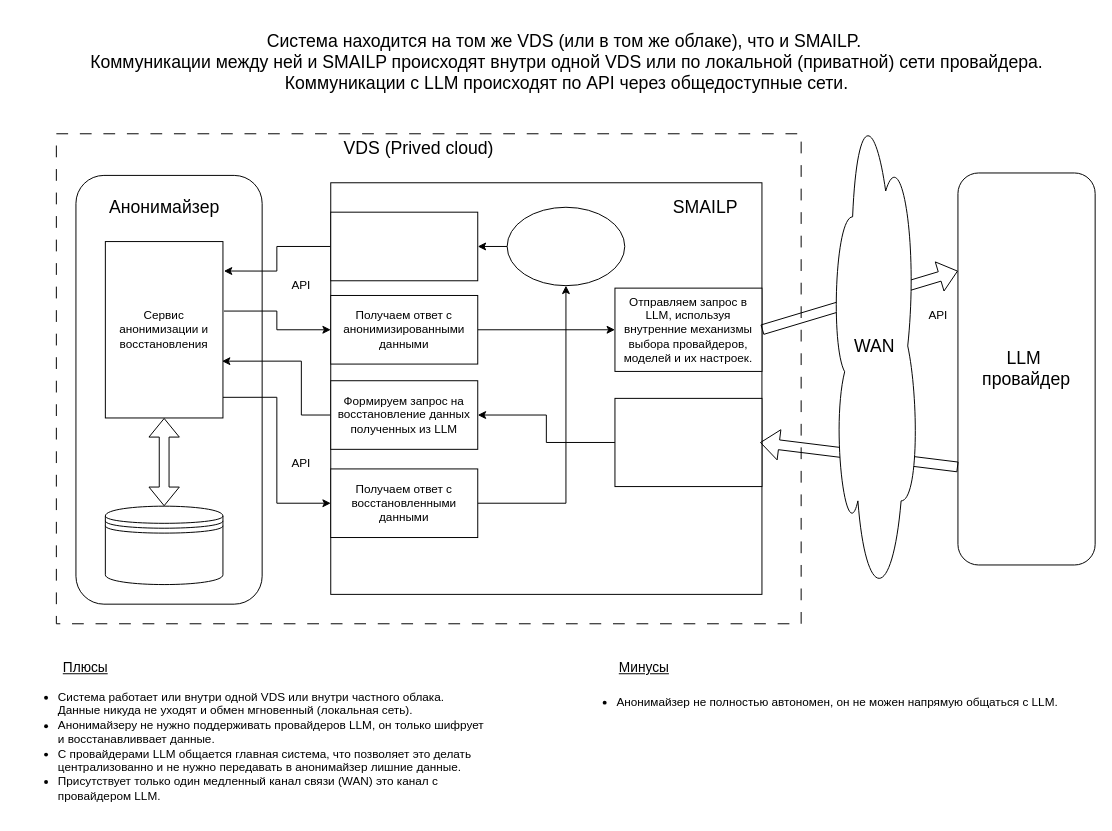
Image size: 1112x831. Some labels were removed from this diagram. The shapes that lost their labels are listed below. From the top down, each one's box as (x1, y1, x2, y2) in pixels, then its label:
(330, 211, 478, 281): Формируем запрос на анонимизацию данных перед отправкой в LLM
(506, 206, 625, 286): Бизнес процесс
(614, 397, 762, 487): Получаем ответ от LLM
(104, 505, 223, 585): База данных анонимайзера
